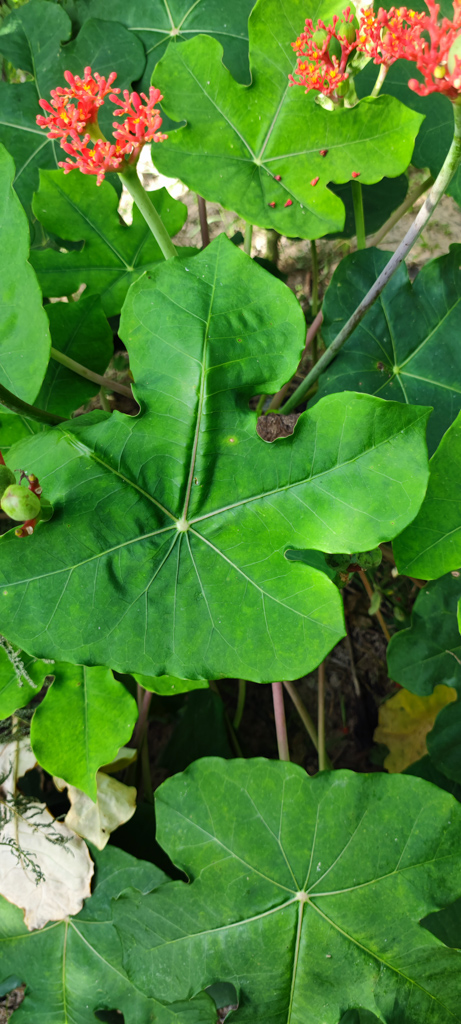frog-eye leafspot: (220, 429, 243, 448)
